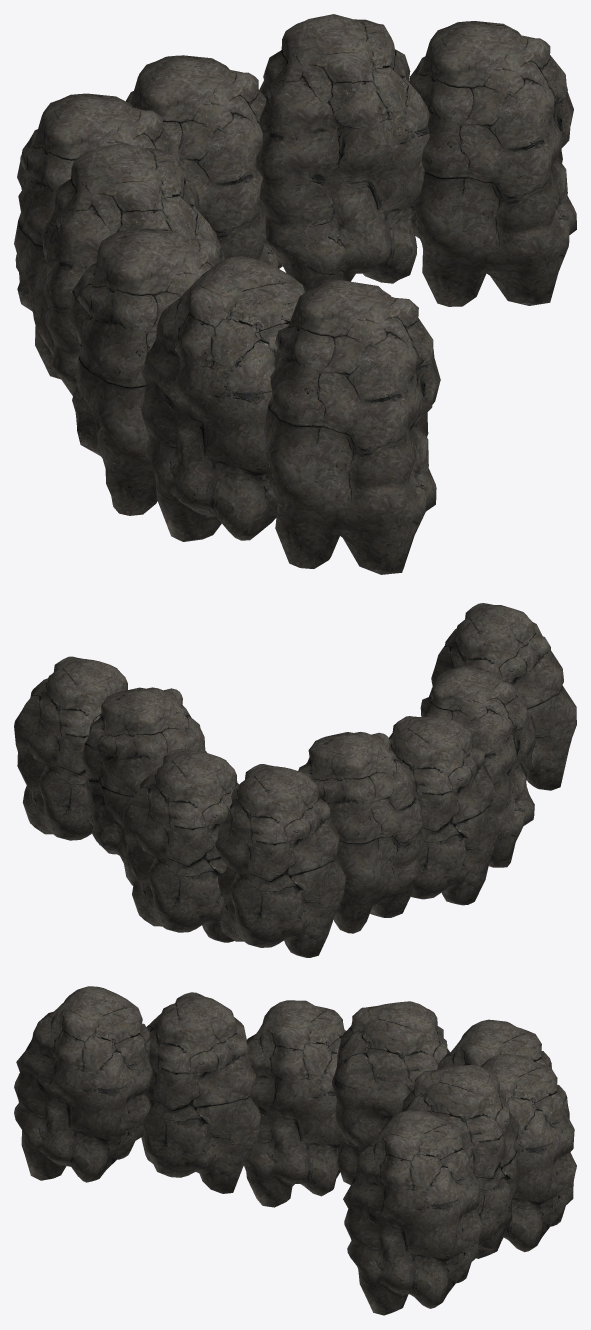
Rendered from TwinPeakRocksShape20.dae.
The picture shows the model from 3 angles, top to bottom: view 1: azimuth 30°, elevation 25°; view 2: azimuth 150°, elevation 25°; view 3: azimuth 270°, elevation 25°; orthographic projection. The views are drawn at different scales.
Parts seen in each view (by area): view 1: TwinPeakRocks20; view 2: TwinPeakRocks20; view 3: TwinPeakRocks20.
Boxes of the visible parts, bbox=[...] form: TwinPeakRocks20: bbox=[14, 14, 576, 574]; TwinPeakRocks20: bbox=[14, 603, 576, 957]; TwinPeakRocks20: bbox=[14, 986, 576, 1315].
Bounding box in the file's own units: 138 × 73.35 × 166.
